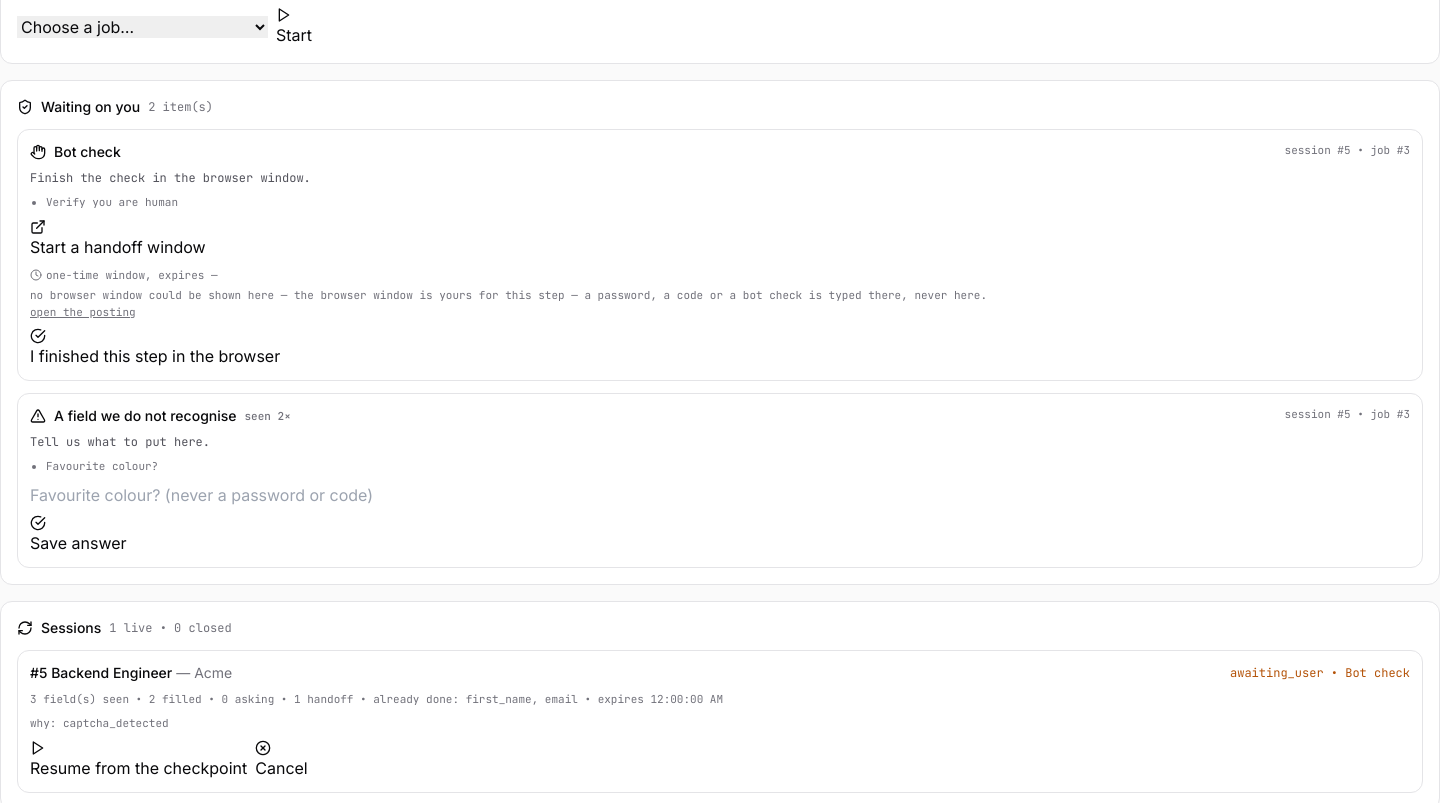
Test: Assisted Apply page › resumes through the checkpoint-validating route
(page scrolled)
What coordinates should you click on to do the following:
click the button "Resume from the checkpoint"
I would click on:
 (139, 760)
Its box is x1=30 y1=740 x2=247 y2=780.
(page scrolled)
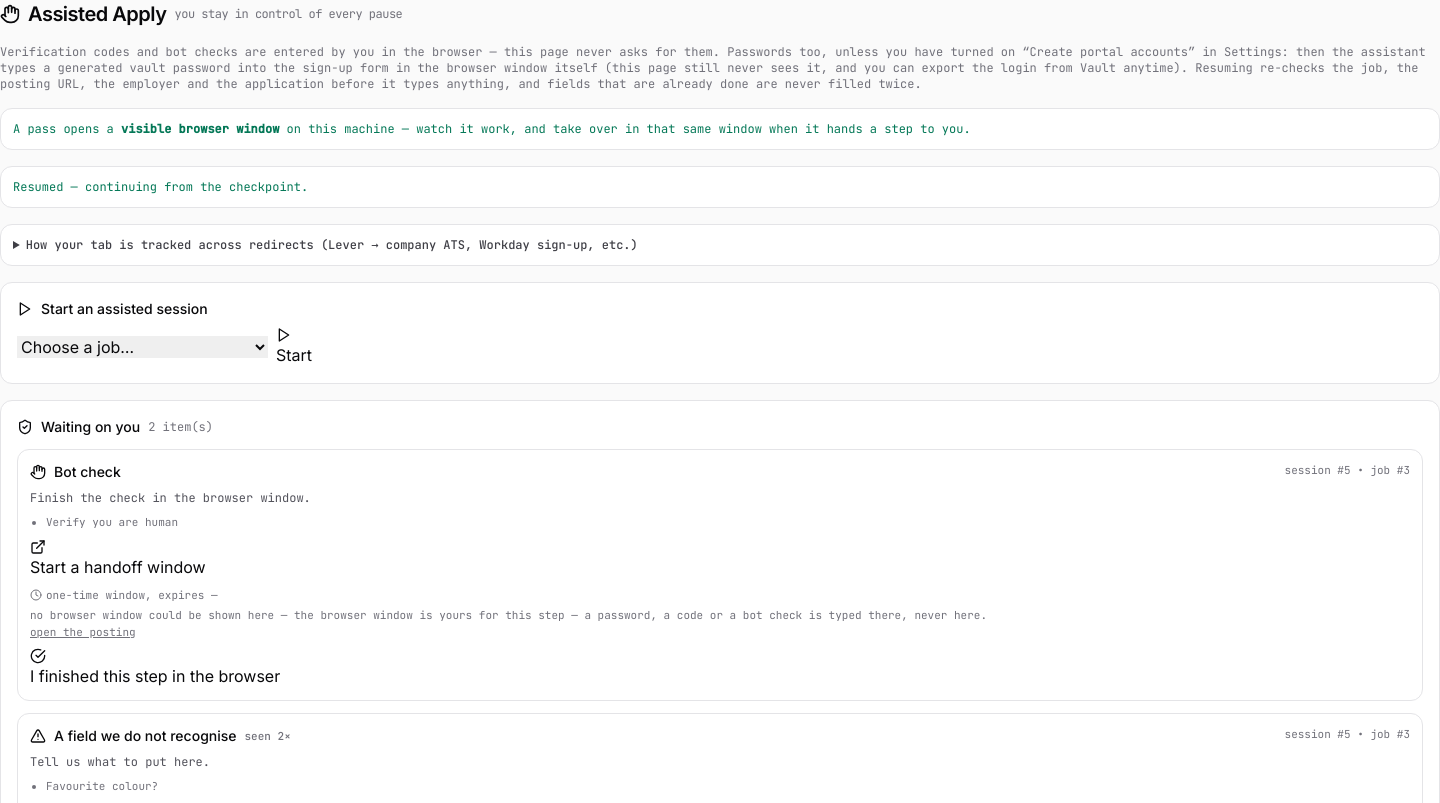
expect the text "Resumed — continuing from the checkpoint." is shown: met, box x1=0 y1=166 x2=1439 y2=208
